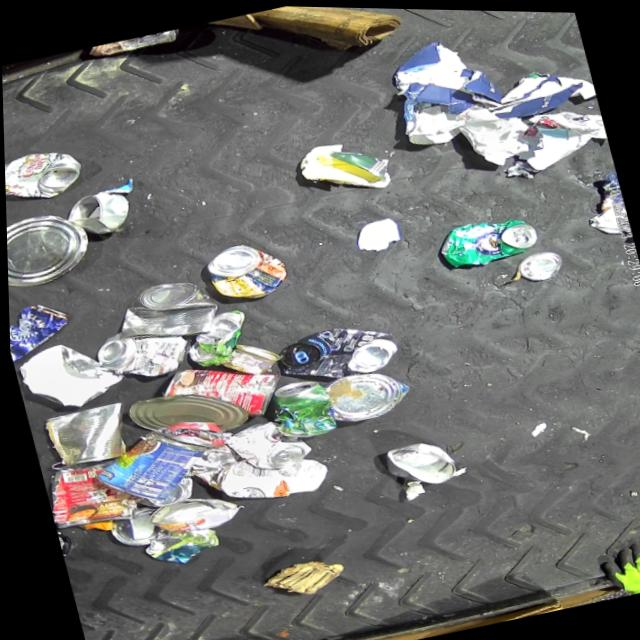can: (80, 416, 213, 513), (153, 348, 284, 436), (271, 312, 400, 391), (104, 271, 221, 353), (121, 377, 246, 450), (5, 202, 97, 295), (38, 454, 134, 535), (88, 318, 191, 388), (432, 206, 541, 271), (38, 398, 133, 472), (200, 234, 290, 306), (217, 410, 311, 478), (320, 361, 412, 427), (3, 141, 86, 209), (140, 486, 239, 540), (262, 372, 336, 441), (380, 431, 459, 492), (177, 306, 252, 369), (7, 296, 74, 363), (59, 185, 130, 241), (86, 26, 182, 61), (215, 334, 280, 381), (101, 502, 160, 551), (129, 474, 194, 511), (511, 244, 563, 283)
